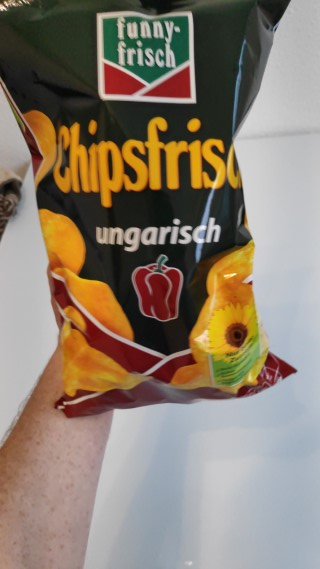chipsfrisch: (1, 1, 297, 418)
